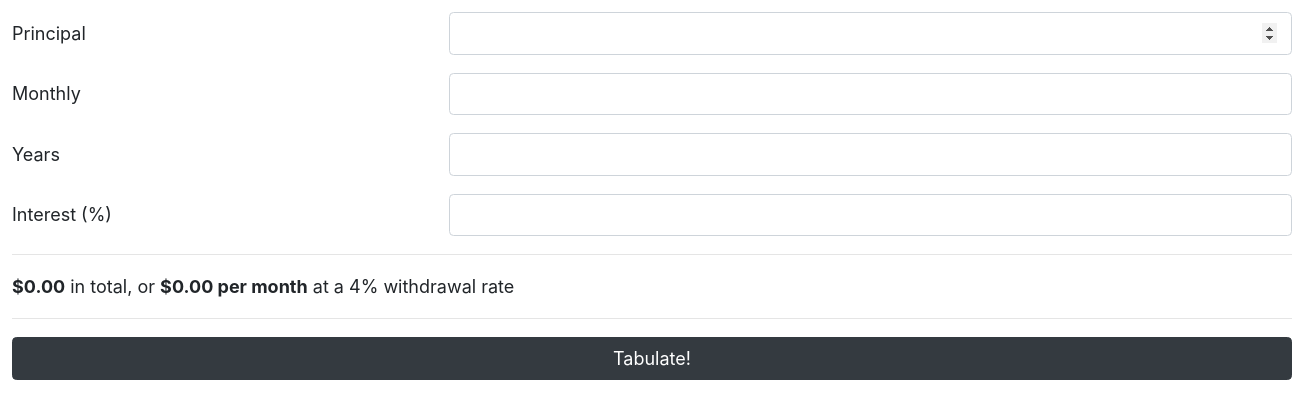
it: testing input › result text changes after input
Type "12000" into the number field labelled "Principal".
click(870, 33); type("12000")  # box [449,12,1292,54]
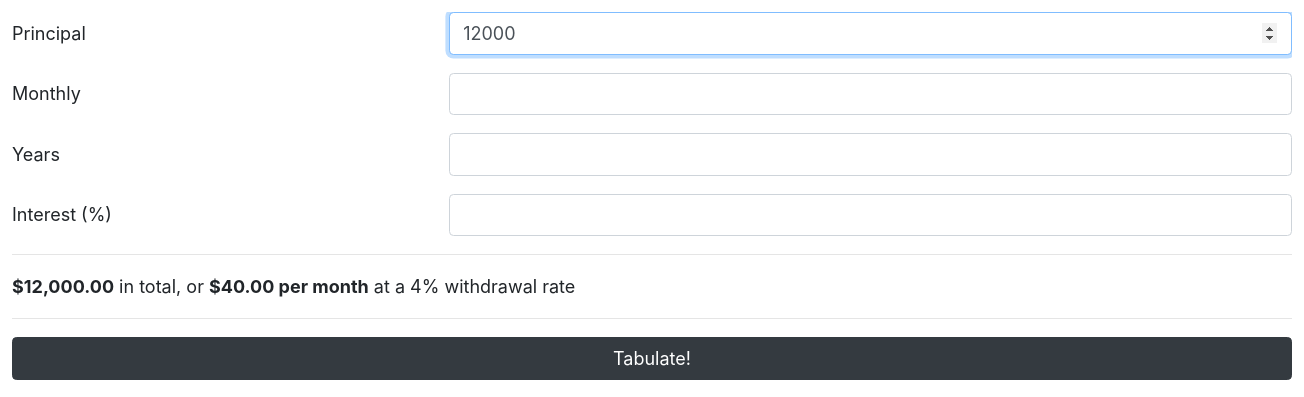
Type "1000" into the number field labelled "Monthly".
click(870, 94); type("1000")  # box [449,72,1292,115]
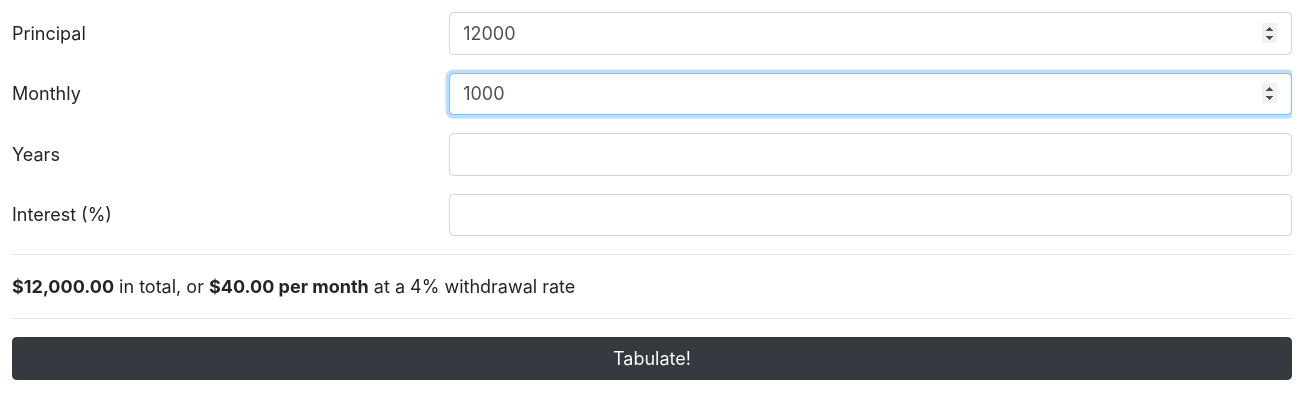
Type "1" into the number field labelled "Years".
click(870, 154); type("1")  # box [449,133,1292,176]
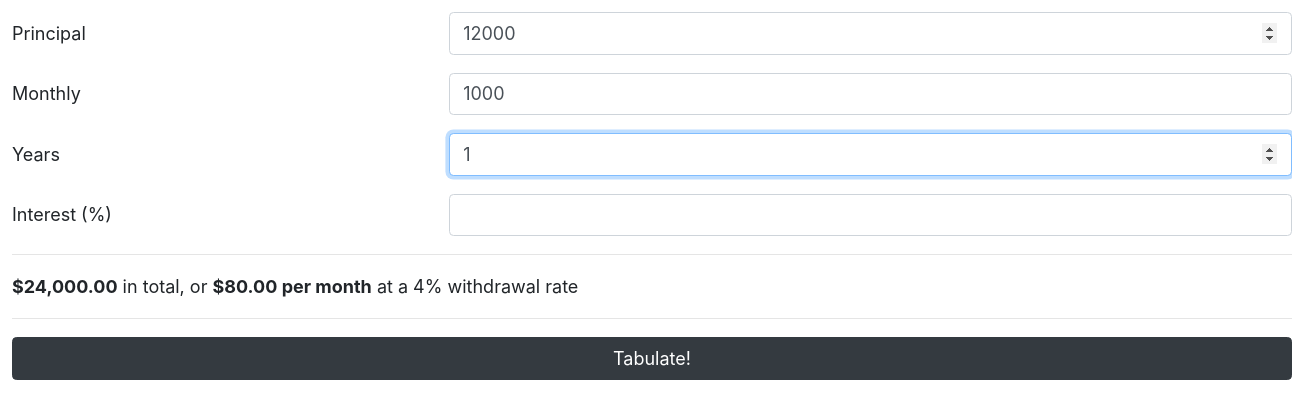
Type "5" into the number field labelled "Interest (%)".
click(870, 215); type("5")  # box [449,194,1292,236]
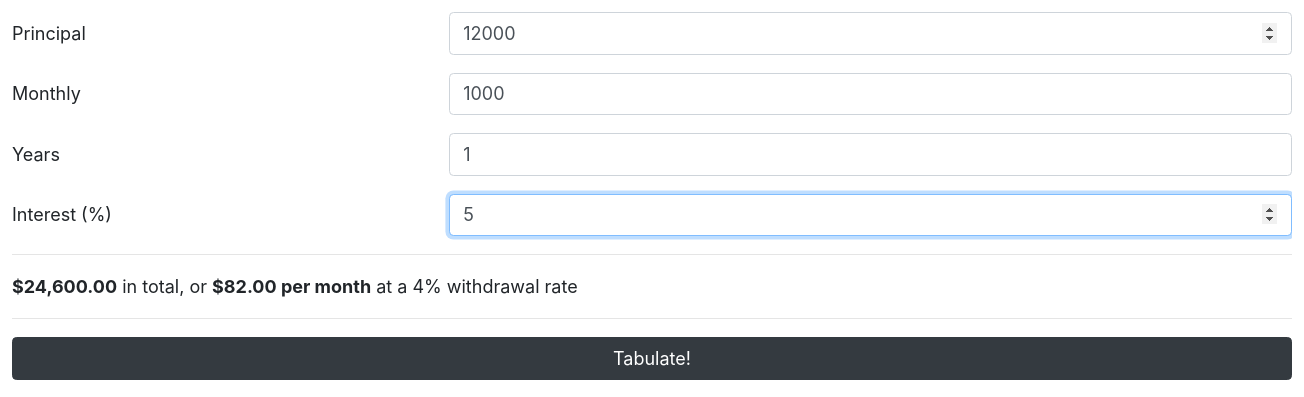
Expected: the text "$24,600.00 in total, or $82.00 per month at a 4% withdrawal rate" is shown, [12,276,578,297]
